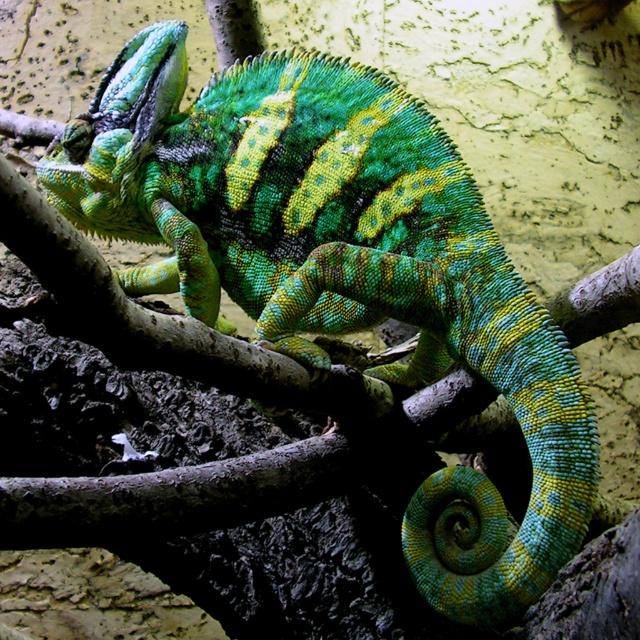Lizard: (60, 45, 618, 607)
